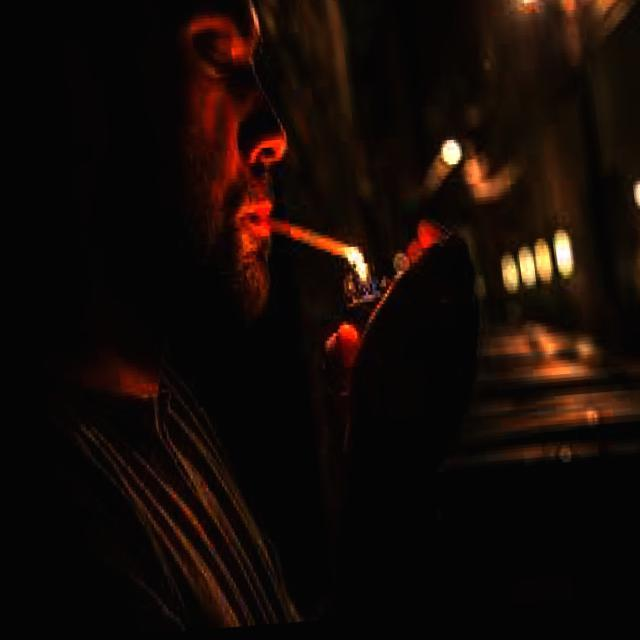Fire: (324, 238, 368, 310)
